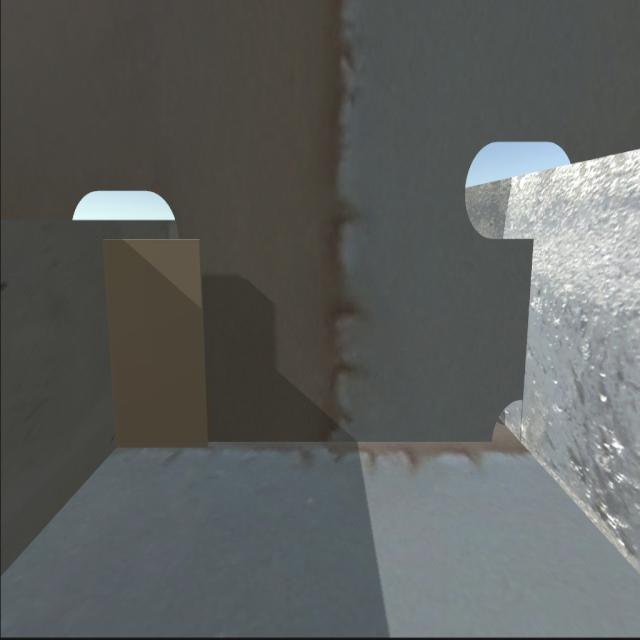fillet_hole: (486, 392, 526, 447)
fillet_yong_jeop_jang: (114, 434, 491, 454)
longi_yong_jeop_jang: (98, 239, 122, 447)
plate_CP01: (101, 238, 208, 446)
